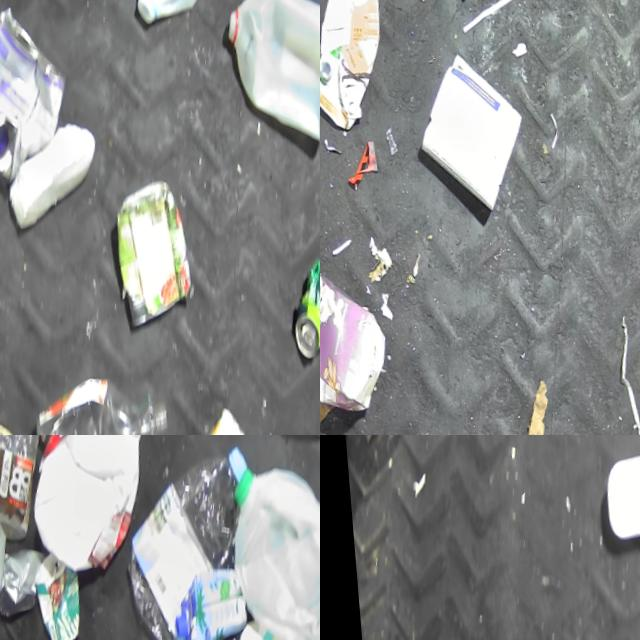can: (94, 169, 204, 336), (0, 0, 80, 194), (279, 251, 320, 361)
milk_jug: (8, 435, 157, 582), (203, 458, 320, 640), (210, 0, 320, 140), (127, 0, 216, 33)
non_white_jug: (320, 249, 392, 418), (320, 0, 394, 130)
plastic_bottle: (99, 435, 256, 640)
